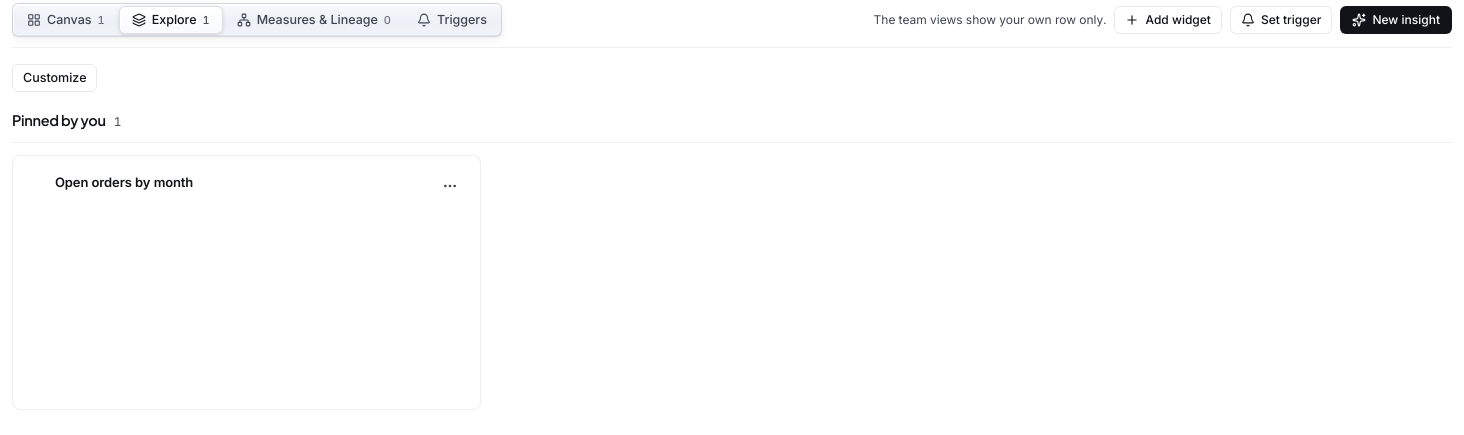
proposing a saved tile as a shared definition › submits the saved tile's SQL to /api/measures/candidates and confirms submission
Click the button with test id "tile-menu-s7" at (450, 186), box [436, 172, 464, 200]
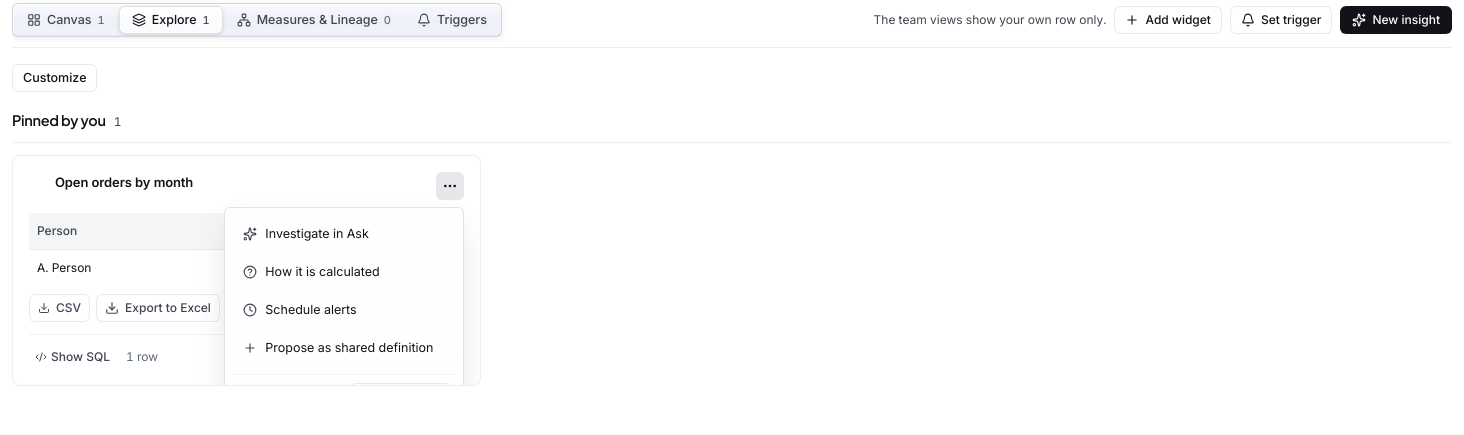
Now the menu item with test id "propose-s7" is shown
Click the menu item with test id "propose-s7" at (344, 348), box [233, 330, 455, 366]
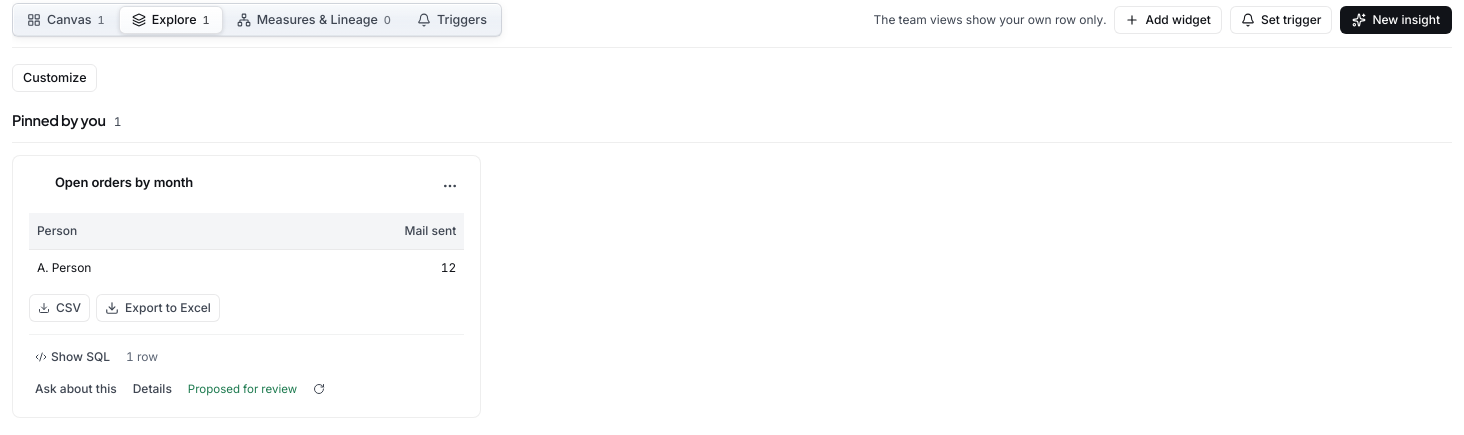
Now the text with test id "proposed-s7" reads "Proposed for review", box [188, 382, 297, 396]
